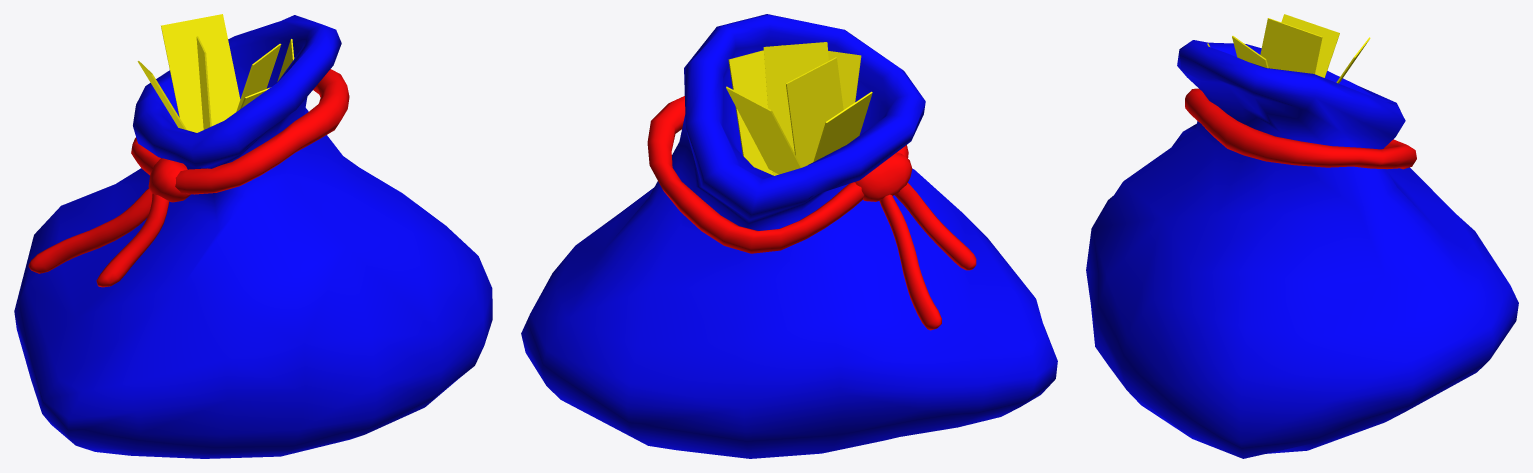
Rendered from Her_bagofletters_ZW.fbx.
3 renders of one model, left to right at view 1: azimuth 30°, elevation 25°; view 2: azimuth 150°, elevation 25°; view 3: azimuth 270°, elevation 25°, orthographic. The views are drawn at different scales.
Visible parts, largest first — view 1: Bag, Rope, Letter2, RopeTail1, RopeTail2, RopeKnot, Letter1, Letter3, Letter4; view 2: Bag, Rope, Letter3, Letter1, Letter2, RopeTail1, Letter6, RopeTail2, Letter4, RopeKnot, Letter5; view 3: Bag, Rope, Letter3, Letter4, Letter1.
Boxes of the visible parts, <box> form: Bag: <box>14,15,492,458</box>; Rope: <box>131,69,349,194</box>; Letter2: <box>161,14,240,132</box>; RopeTail1: <box>28,188,151,273</box>; RopeTail2: <box>96,193,168,287</box>; RopeKnot: <box>148,158,190,202</box>; Letter1: <box>236,43,281,111</box>; Letter3: <box>196,36,211,129</box>; Letter4: <box>137,61,186,129</box>; Bag: <box>521,14,1057,458</box>; Rope: <box>647,96,908,253</box>; Letter3: <box>786,57,843,167</box>; Letter1: <box>763,42,828,175</box>; Letter2: <box>726,86,801,174</box>; RopeTail1: <box>879,194,941,330</box>; Letter6: <box>728,45,782,175</box>; RopeTail2: <box>894,183,976,270</box>; Letter4: <box>813,91,872,161</box>; RopeKnot: <box>854,152,912,201</box>; Letter5: <box>828,51,861,109</box>; Bag: <box>1086,40,1518,458</box>; Rope: <box>1185,88,1416,169</box>; Letter3: <box>1260,18,1322,73</box>; Letter4: <box>1281,14,1339,77</box>; Letter1: <box>1232,36,1268,68</box>.
Size of the model in its own units: 1.77 by 1.35 by 1.57.
